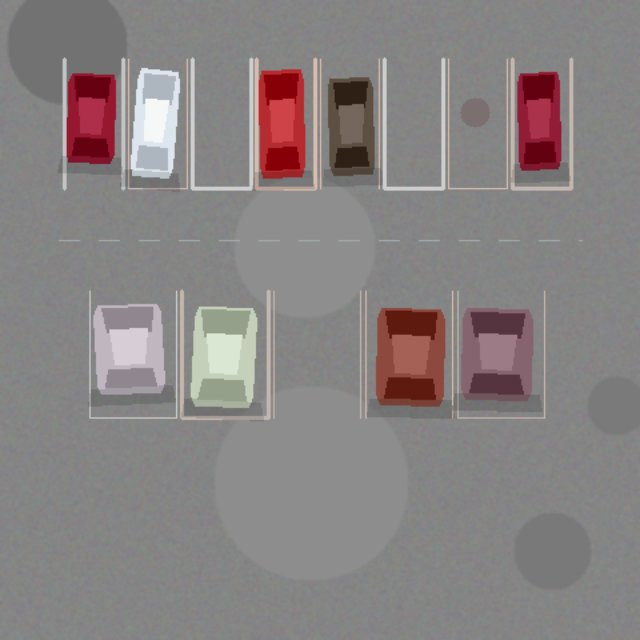space-empty: (273, 291, 360, 417), (192, 59, 251, 188), (384, 59, 443, 188), (448, 59, 507, 188)
space-occupied: (89, 291, 176, 417), (181, 291, 268, 417), (365, 291, 452, 417), (457, 291, 544, 417), (64, 59, 123, 188), (128, 59, 187, 188), (256, 59, 315, 188), (320, 59, 379, 188), (512, 59, 571, 188)
